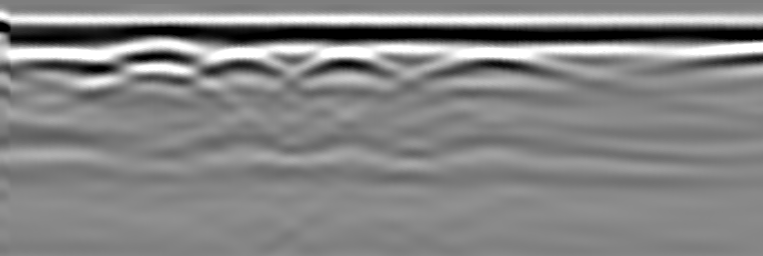pipe: (113, 25, 207, 60)
steel: (418, 47, 574, 77), (300, 47, 394, 78), (202, 48, 289, 77)
